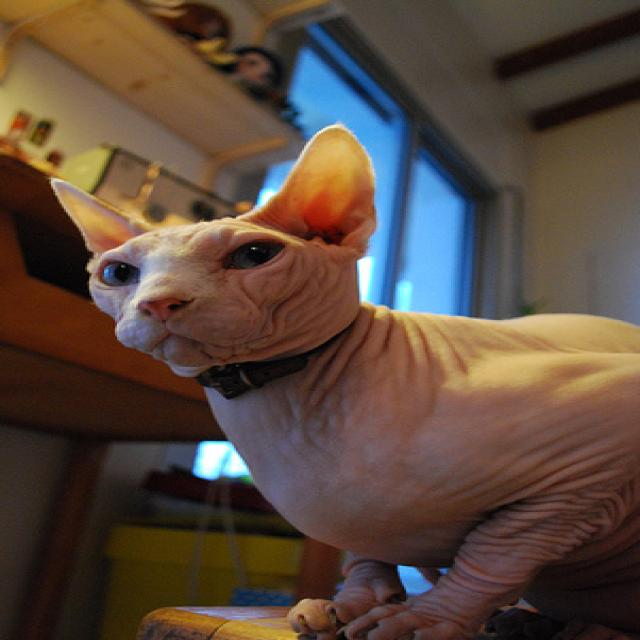Sphynx: (44, 121, 640, 640)
